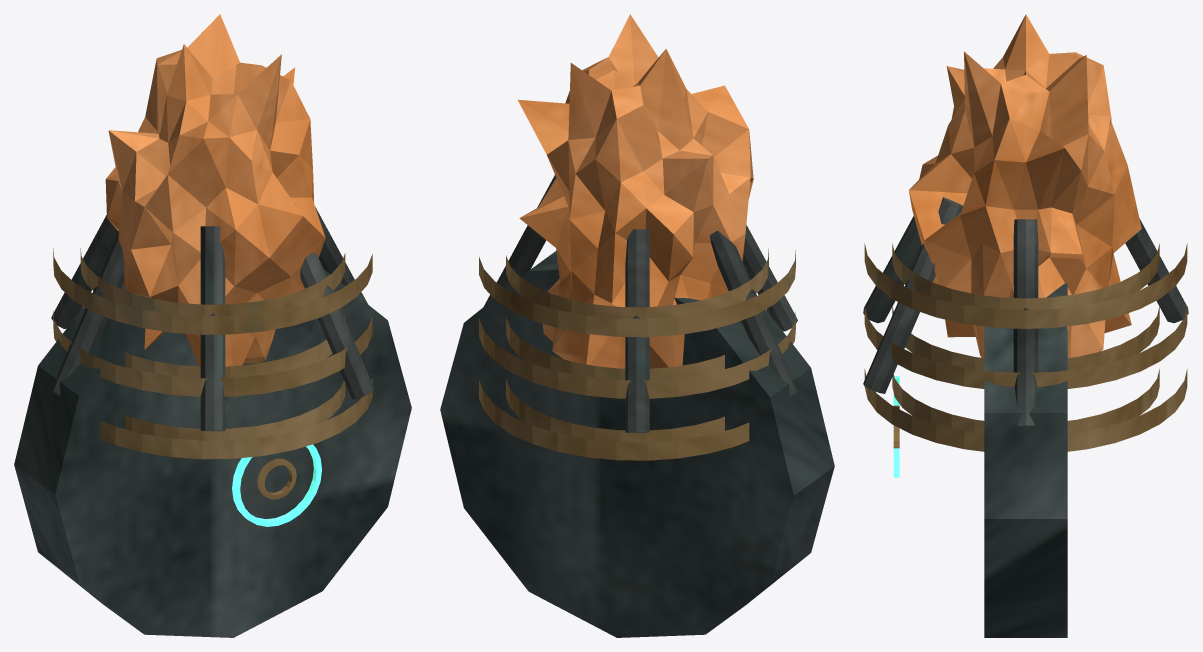
Rendered from 0996_offering_relic_21.glb.
3 views of the same model, side by side, from view 1: azimuth 30°, elevation 25°; view 2: azimuth 150°, elevation 25°; view 3: azimuth 270°, elevation 25° (orthographic).
Visible parts, largest first — view 1: stone_dark, amber, brass, iron, glow; view 2: stone_dark, amber, brass, iron; view 3: amber, brass, stone_dark, iron.
Part boxes in pixels (left/top/right/bottom): stone_dark: left=14, top=269, right=411, bottom=637; amber: left=105, top=14, right=325, bottom=366; brass: left=53, top=248, right=372, bottom=499; iron: left=51, top=204, right=374, bottom=431; glow: left=232, top=444, right=321, bottom=526; stone_dark: left=440, top=251, right=834, bottom=637; amber: left=518, top=14, right=753, bottom=368; brass: left=479, top=248, right=795, bottom=460; iron: left=483, top=175, right=797, bottom=432; amber: left=908, top=14, right=1141, bottom=357; brass: left=864, top=243, right=1187, bottom=451; stone_dark: left=984, top=283, right=1067, bottom=637; iron: left=863, top=197, right=1188, bottom=425.
Bounding box in the file's own units: 0.9 × 1.41 × 0.7056.
5 materials, 5 textured.
